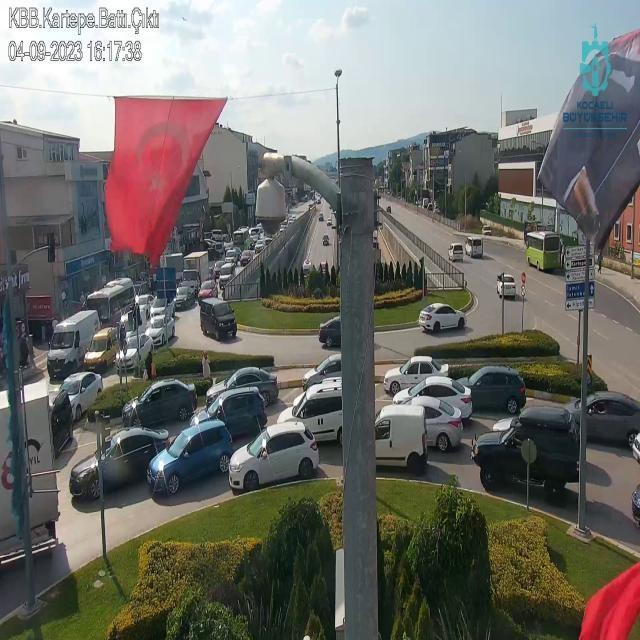Bus: (85, 276, 140, 330), (525, 231, 561, 271)
Car: (472, 406, 582, 498), (69, 426, 170, 501), (227, 420, 320, 493), (146, 419, 234, 495), (388, 395, 468, 451), (563, 391, 638, 448), (277, 382, 343, 446), (191, 387, 270, 440), (120, 378, 200, 429), (203, 366, 279, 410), (458, 366, 526, 415), (384, 356, 452, 396), (51, 371, 102, 422), (418, 302, 468, 334), (116, 333, 156, 372), (302, 352, 344, 388), (145, 313, 176, 347), (318, 315, 341, 347), (149, 296, 175, 323), (174, 286, 198, 309), (134, 294, 156, 318), (496, 273, 516, 298), (198, 280, 217, 298), (448, 242, 464, 262), (212, 261, 228, 278)
Truck: (182, 249, 210, 289)
Van: (46, 308, 104, 378), (377, 404, 428, 471), (199, 298, 239, 342)
